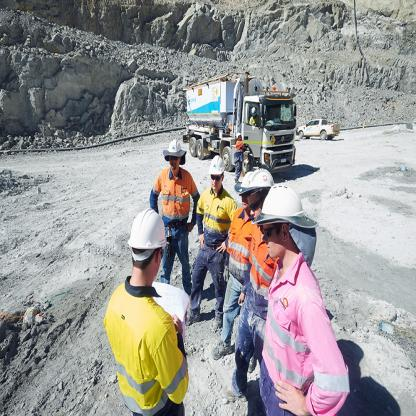dump_truck: (178, 75, 302, 173)
person: (254, 190, 353, 416), (100, 210, 192, 416), (230, 165, 275, 407), (193, 146, 235, 362), (150, 120, 199, 277), (230, 124, 248, 184)
